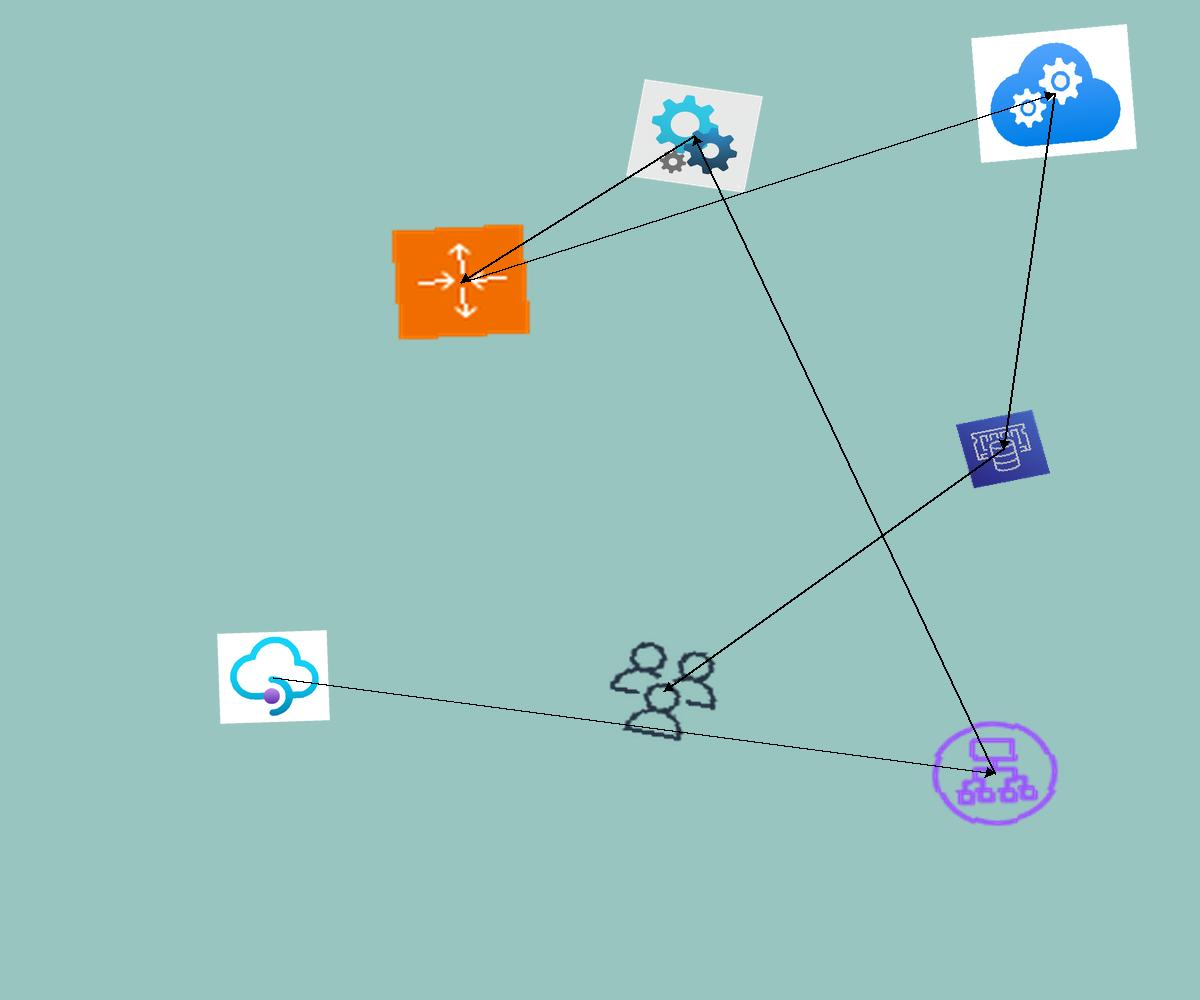AWS-ElastiCache: (955, 409, 1051, 489)
AWS-Res_Elastic-Load-Balancing_Application-Load-Balancer: (921, 712, 1069, 835)
AWS-Res_Users: (593, 632, 735, 751)
AWS-Scaling-group: (389, 222, 533, 342)
Azure_api: (626, 79, 763, 193)
Azure_api_gateway: (217, 630, 330, 724)
Azure_cloud_services: (971, 24, 1137, 163)
